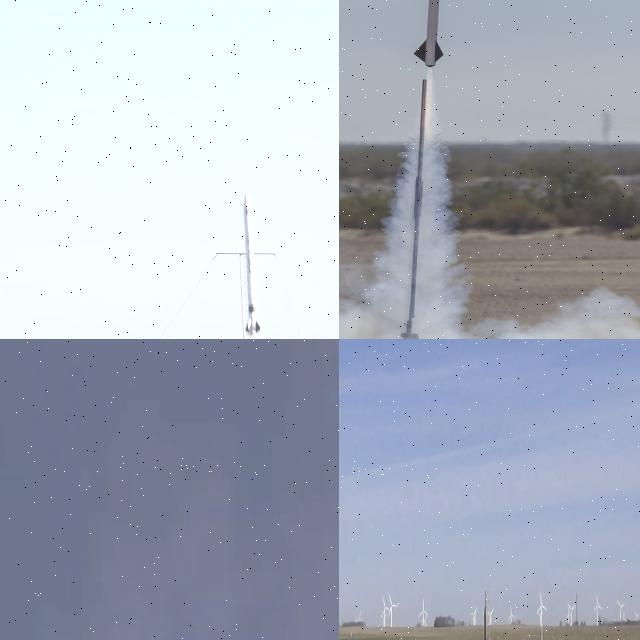Rocket: (242, 194, 262, 338), (413, 0, 444, 68), (483, 603, 488, 640)
